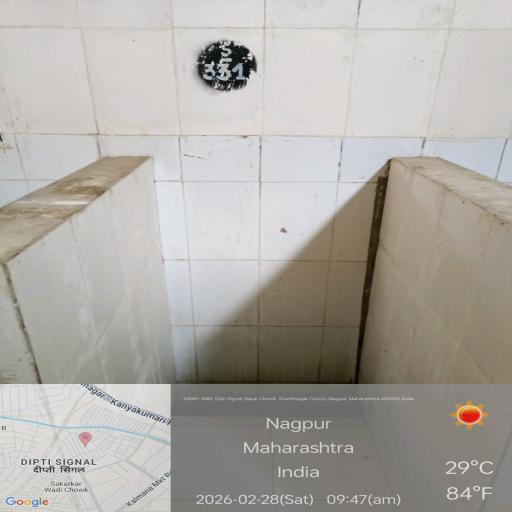clean_floor: (52, 12, 494, 382)
